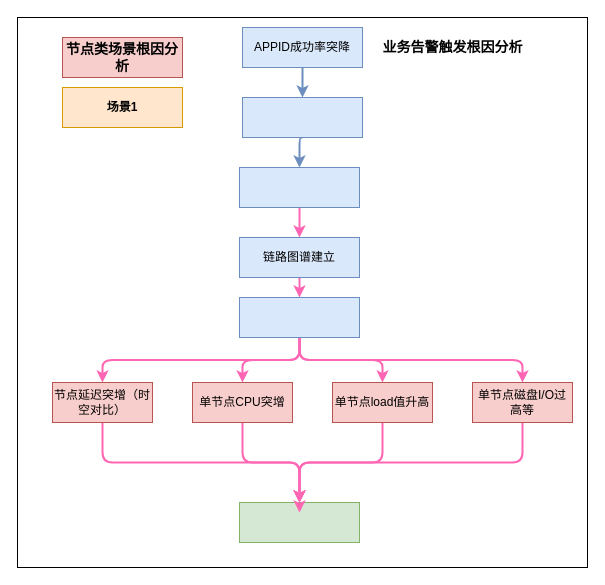
Image size: 605x585. Some labels were removed from this diagram. Here are the shapes that lost their labels. From the top down, the centre of each, then its label:
At (302,117): "提取出错误码".
At (299,187): "根因分析框架".
At (299,317): "横向分析".
At (299,522): "根因分析输出".
